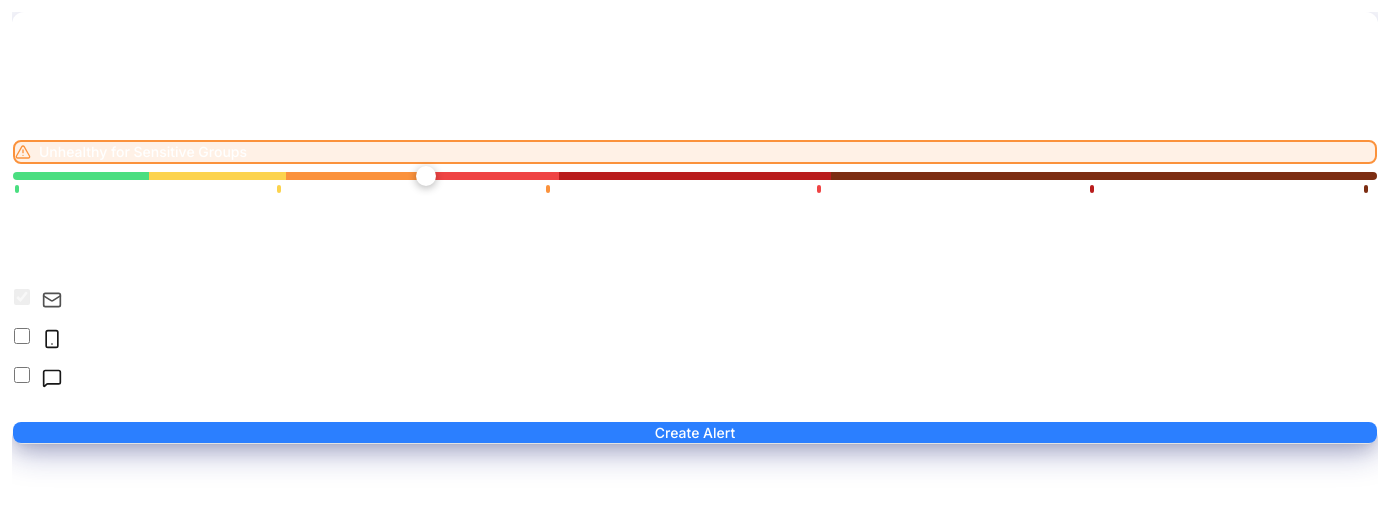
AlertConfigurationCardConnected › Error Handling › should show error message for 409 conflict (duplicate alert)
Click the button "Create Alert" at (695, 432), box [13,422,1377,443]
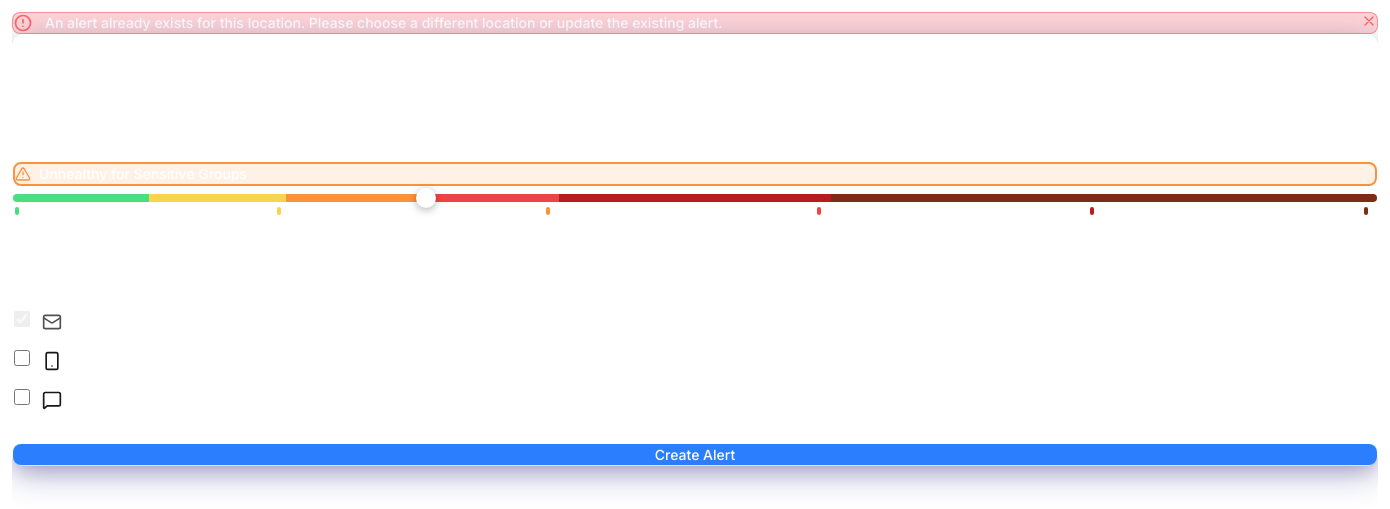
Result: the text "An alert already exists for this location" is shown at [45,14,722,31]
